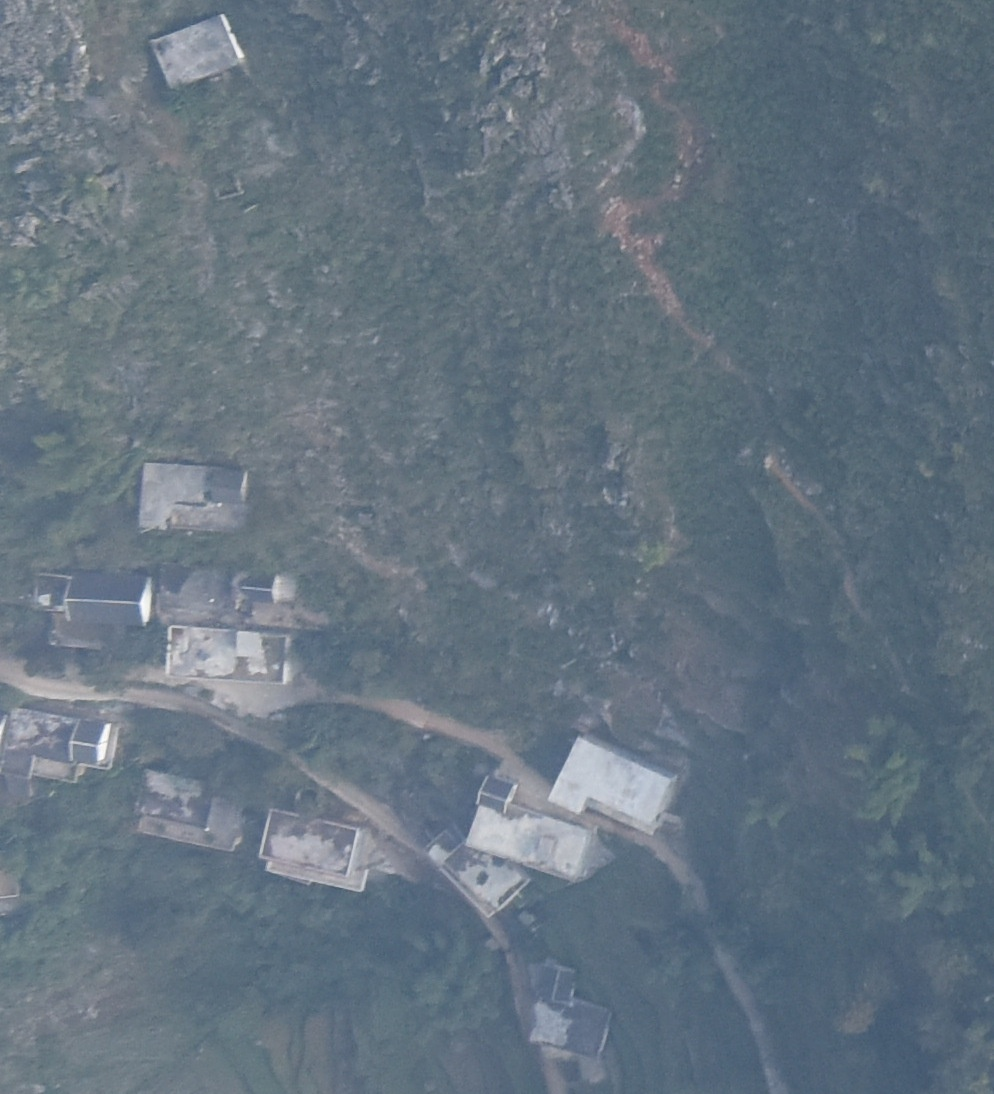building: (547, 731, 682, 834), (467, 779, 599, 884), (260, 809, 374, 892), (134, 770, 248, 852), (138, 461, 252, 539), (164, 623, 294, 690), (148, 12, 246, 92), (439, 835, 533, 915), (3, 705, 114, 764), (66, 571, 155, 627), (532, 997, 612, 1057), (539, 964, 577, 1006), (239, 572, 284, 605)
